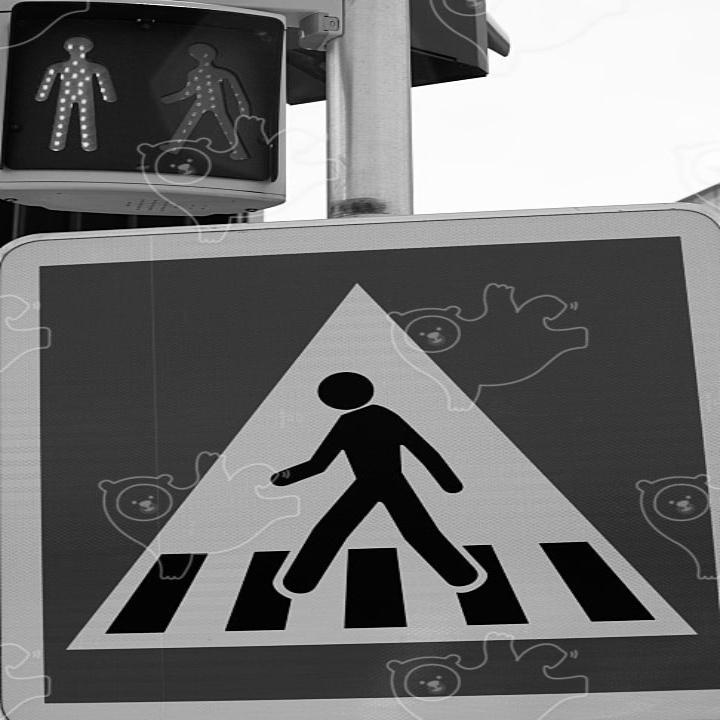cross: (107, 336, 673, 625)
